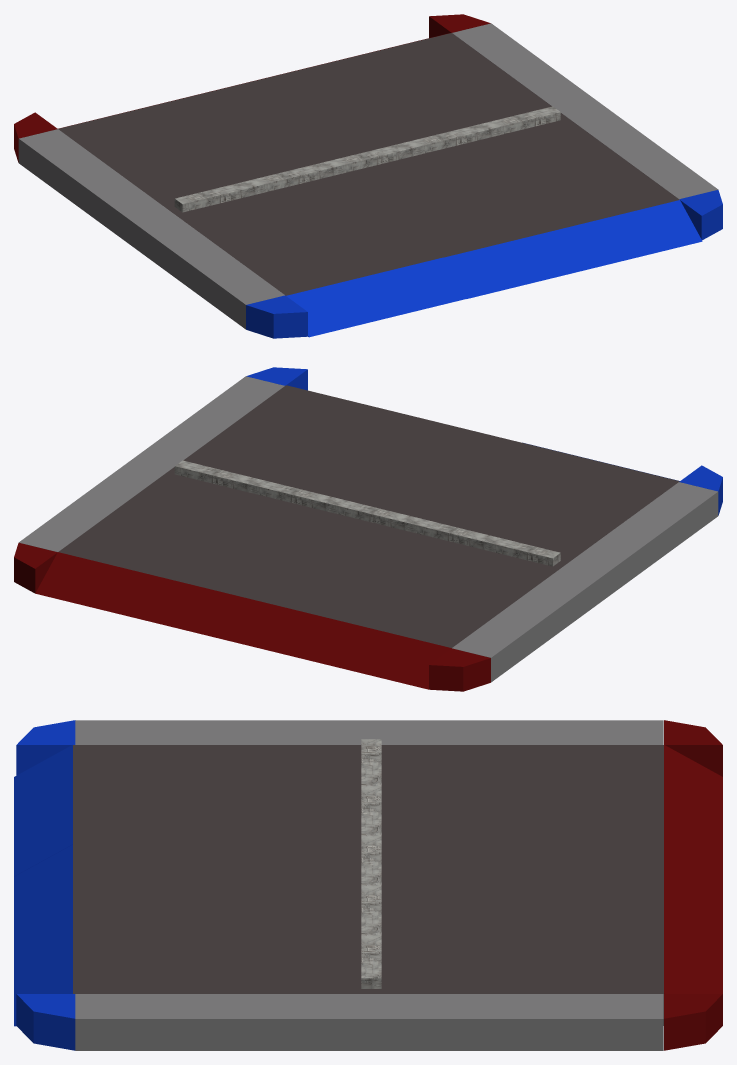
The picture shows the model from 3 angles, top to bottom: view 1: azimuth 30°, elevation 25°; view 2: azimuth 150°, elevation 25°; view 3: azimuth 270°, elevation 25°; orthographic projection. The views are drawn at different scales.
Visible parts, largest first — view 1: mergedBlocks(Clone); view 2: mergedBlocks(Clone); view 3: mergedBlocks(Clone).
Boxes of the visible parts, left/top/right/bottom form: mergedBlocks(Clone): left=14, top=14, right=722, bottom=338; mergedBlocks(Clone): left=14, top=367, right=722, bottom=691; mergedBlocks(Clone): left=14, top=720, right=722, bottom=1050.
Size of the model in its own units: 6 by 0.403 by 6.02.
Materials: 5 (1 with a texture image).
